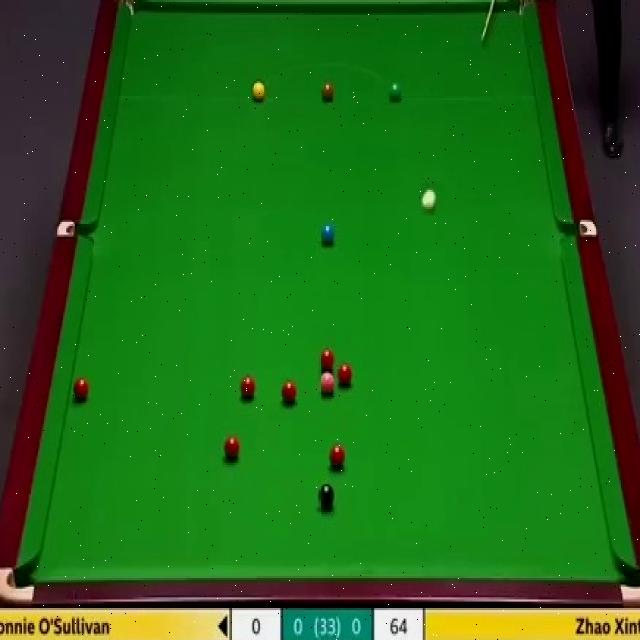black-ball: (318, 482, 336, 508)
blue-ball: (320, 225, 335, 245)
brown-ball: (320, 82, 336, 101)
green-ball: (388, 79, 403, 103)
pink-ball: (318, 373, 334, 394)
red-ball: (337, 360, 353, 388), (329, 444, 345, 471), (72, 377, 89, 401), (241, 374, 255, 400), (320, 348, 335, 371), (282, 380, 296, 404), (226, 433, 238, 460)
white-ball: (424, 188, 437, 214)
yellow-ball: (254, 80, 266, 106)
